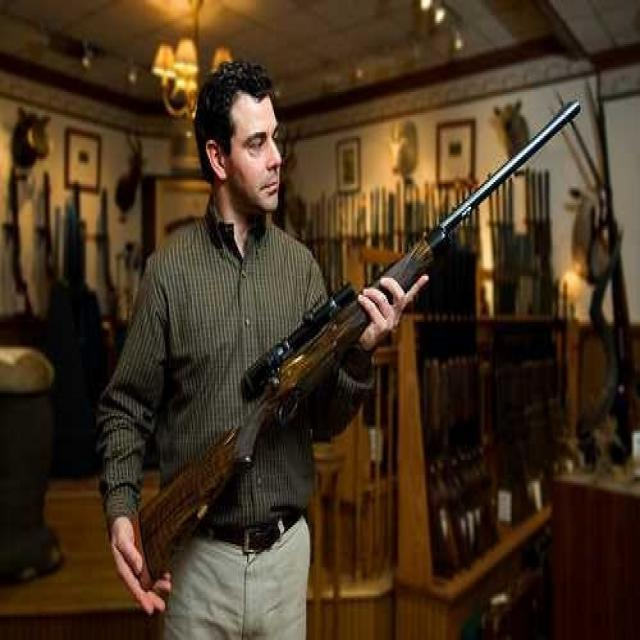weapon: (130, 69, 586, 588)
